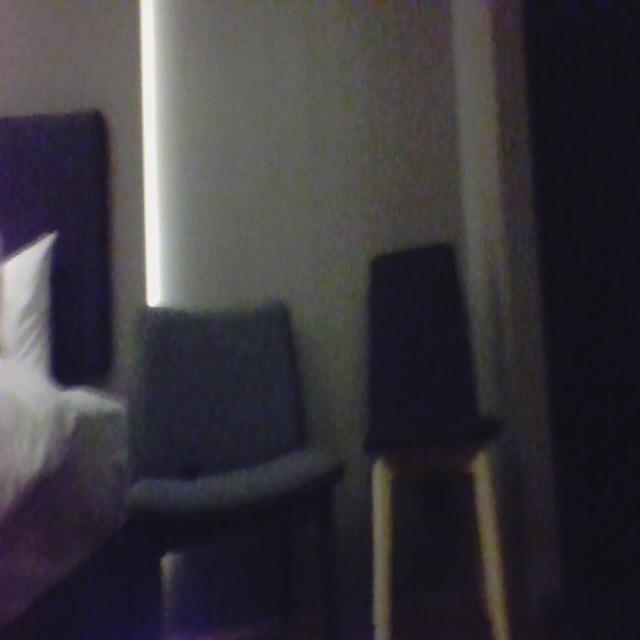empty: (144, 315, 316, 495), (362, 255, 476, 450)
